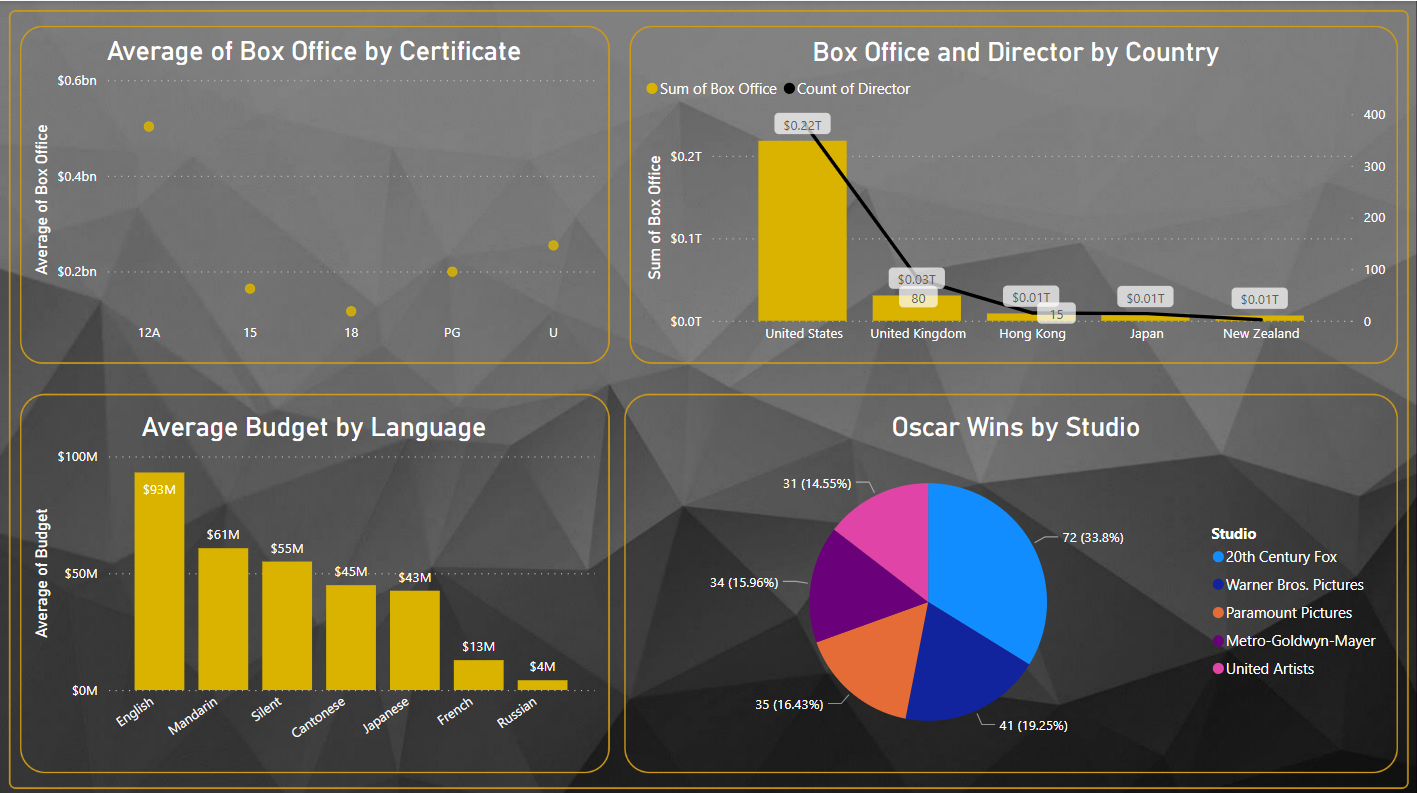

The dashboard page shown, as its layout file describes it:
{"tool":"powerbi","page":{"name":"Page 3","canvas":[1280,720],"ordinal":2},"visuals":[{"type":"lineClusteredColumnComboChart","title":" Box Office and Director by Country","fields":{"Category":["Films.Country"],"Y":["Sum(Films.Box Office)"],"Y2":["Count(Films.Director)"]},"box":[577.5,31.4,678.6,287],"z":0},{"type":"pieChart","title":"Oscar Wins by Studio","fields":{"Y":["Sum(Films.Oscar Wins)"],"Category":["Films.Studio"]},"box":[577.2,370.2,678.7,318.1],"z":1000},{"type":"columnChart","title":"Average Budget by Language","fields":{"Y":["Avg(Films.Budget)"],"Category":["Films.Language"]},"box":[24.7,370.2,516.9,318.1],"z":2000},{"type":"scatterChart","fields":{"Y":["Avg(Films.Box Office)"],"X":["Films.Certificate"]},"box":[25,31,517,287],"z":3000}]}

Visuals, with their boxes in screenshot pixels (x1, y1, x2, y2), scaled from the page's 1280x720 canvas onto the 1417x793 screenshot:
" Box Office and Director by Country" lineClusteredColumnComboChart: left=639, top=35, right=1391, bottom=351
"Oscar Wins by Studio" pieChart: left=639, top=408, right=1390, bottom=758
"Average Budget by Language" columnChart: left=27, top=408, right=600, bottom=758
scatterChart - Avg(Films.Box Office) x Films.Certificate: left=28, top=34, right=600, bottom=350
